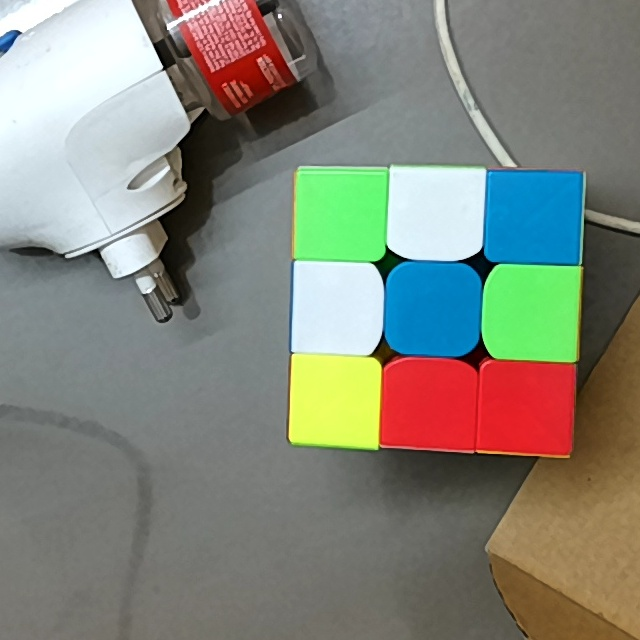tile: (487, 368, 569, 450), (494, 180, 577, 259), (389, 367, 472, 445), (396, 173, 476, 251), (499, 271, 574, 354), (295, 360, 372, 439), (301, 176, 379, 253), (297, 267, 370, 349), (397, 273, 470, 346)
